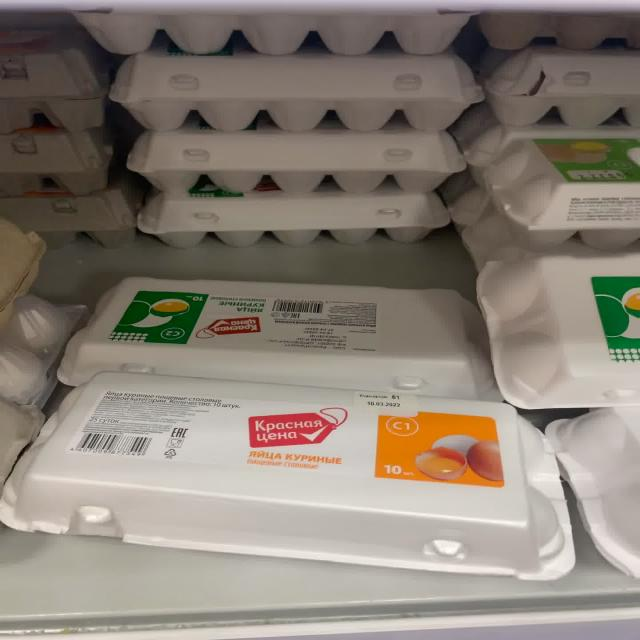egg box: (2, 374, 580, 581), (55, 276, 506, 406)
